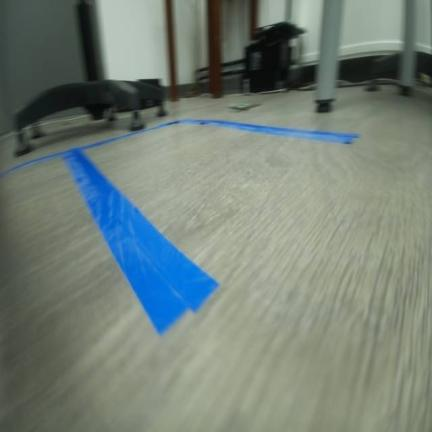place: (58, 116, 361, 344), (0, 146, 219, 431)
